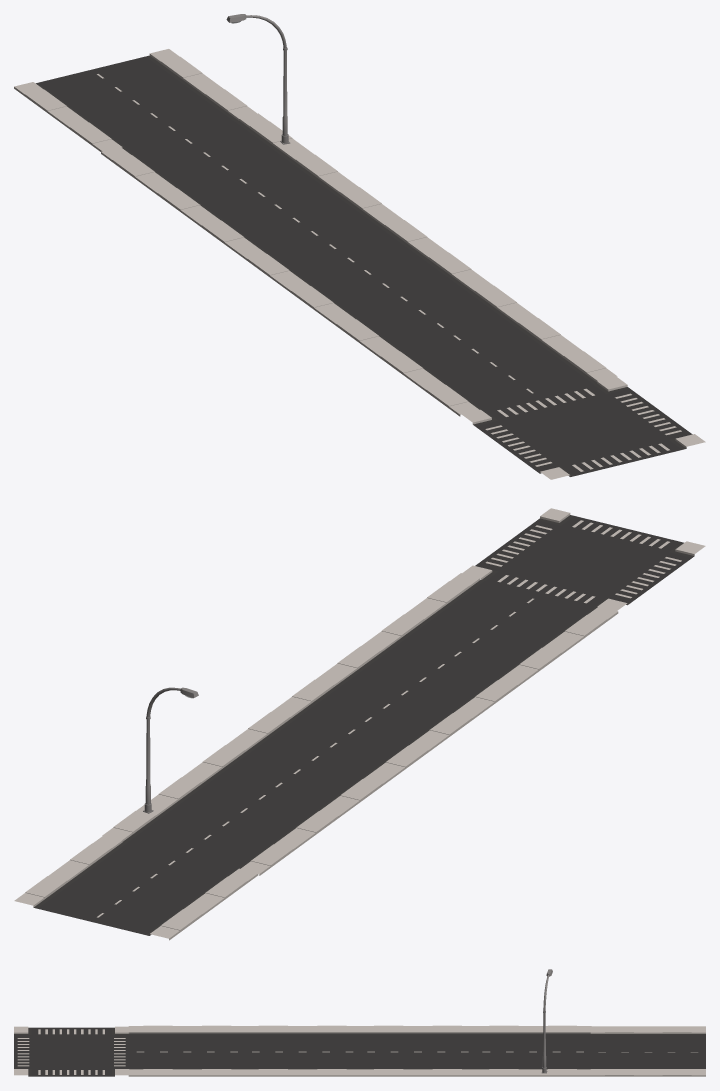
Rendered from map.glb.
3 views of the same model, one above another, from view 1: azimuth 30°, elevation 25°; view 2: azimuth 150°, elevation 25°; view 3: azimuth 270°, elevation 25° (orthographic). The views are drawn at different scales.
Visible parts, largest first — view 1: Street_Straight.001, Street_Straight.004, Street_Straight.002, Street_Straight.003, Street_Straight, Street_4Way, StreetLights; view 2: Street_Straight.001, Street_Straight.003, Street_Straight.004, Street_Straight.002, Street_Straight, Street_4Way, StreetLights; view 3: Street_Straight.003, Street_Straight.002, Street_Straight.004, Street_Straight.001, Street_Straight, Street_4Way, StreetLights.
Part boxes in pixels (left/top/right/bottom): Street_Straight.001: left=101, top=113, right=348, bottom=219; Street_Straight.004: left=369, top=311, right=617, bottom=416; Street_Straight.002: left=192, top=180, right=438, bottom=285; Street_Straight.003: left=281, top=245, right=527, bottom=349; Street_Straight: left=14, top=49, right=256, bottom=151; Street_4Way: left=462, top=377, right=705, bottom=479; StreetLights: left=226, top=14, right=290, bottom=144; Street_Straight.001: left=102, top=769, right=349, bottom=875; Street_Straight.003: left=282, top=638, right=528, bottom=744; Street_Straight.004: left=372, top=573, right=618, bottom=678; Street_Straight.002: left=193, top=704, right=438, bottom=809; Street_Straight: left=14, top=836, right=258, bottom=940; Street_4Way: left=462, top=508, right=705, bottom=610; StreetLights: left=143, top=687, right=198, bottom=813; Street_Straight.003: left=244, top=1025, right=361, bottom=1076; Street_Straight.002: left=359, top=1025, right=476, bottom=1076; Street_Straight.004: left=128, top=1025, right=245, bottom=1076; Street_Straight.001: left=474, top=1025, right=591, bottom=1076; Street_Straight: left=590, top=1026, right=705, bottom=1076; Street_4Way: left=14, top=1026, right=129, bottom=1076; StreetLights: left=541, top=969, right=552, bottom=1073.
Bounding box in the file's own units: 8.13 × 6.75 × 48.02.
4 materials, 3 textured.
